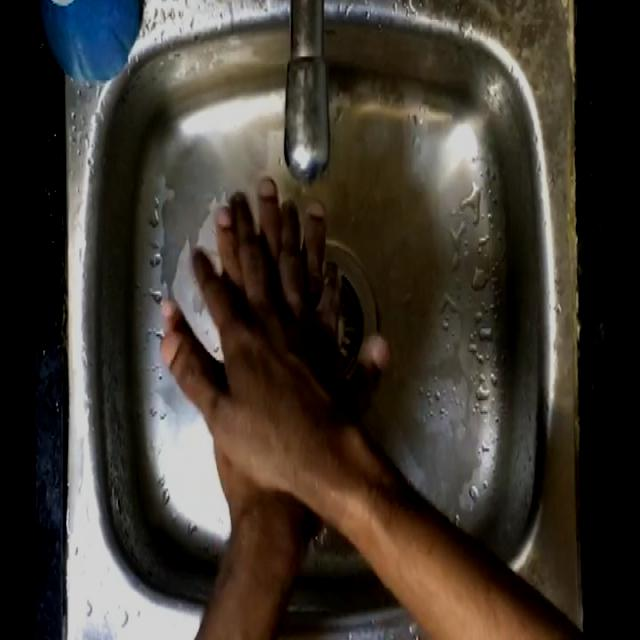step_2: (150, 162, 386, 508)
